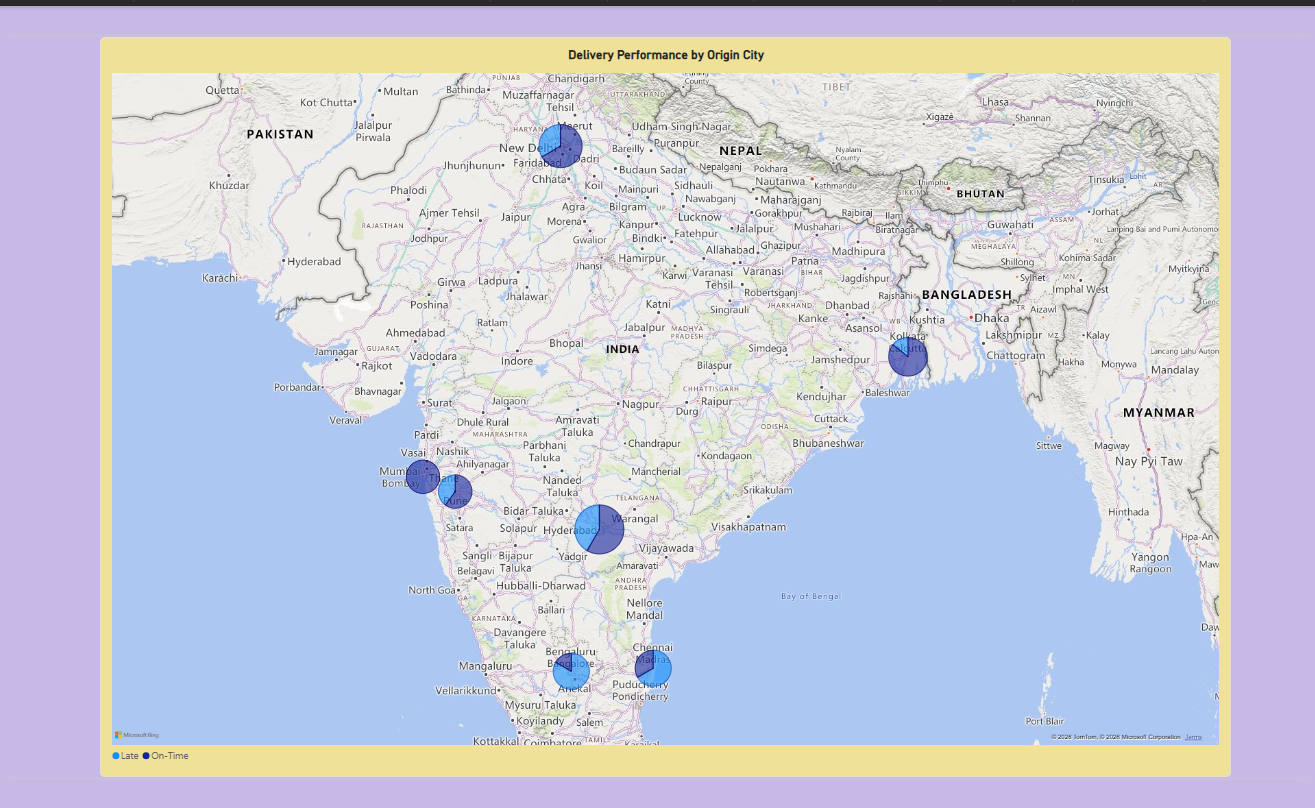

What the dashboard file says about the page in this screenshot:
{"tool":"powerbi","page":{"name":"Map","canvas":[1920,1080],"ordinal":1},"visuals":[{"type":"map","title":"Delivery Performance by Origin City","fields":{"Category":["Trip_Data.Origin"],"Series":["Trip_Data.Delivery_Status"],"Size":["Trip_Data.Total Trips"]},"box":[145.9,0,1650.1,1079.6],"z":0}]}

Visuals, with their boxes on the page's 1920x1080 design canvas (x1, y1, x2, y2). These are canvas units, not pixel positions in the 1315x808 screenshot, which may show the page scaled, cropped or inside an application window:
"Delivery Performance by Origin City" map: 146:0:1796:1080
